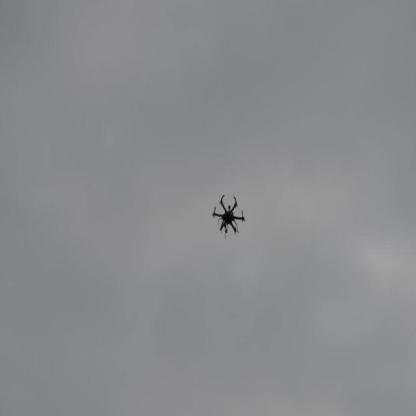drone: (210, 187, 248, 237)
